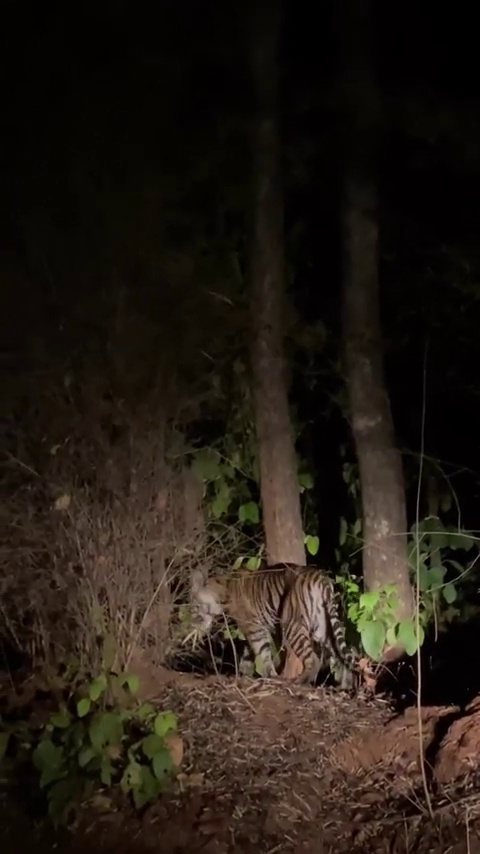Tiger: (184, 560, 375, 686)
